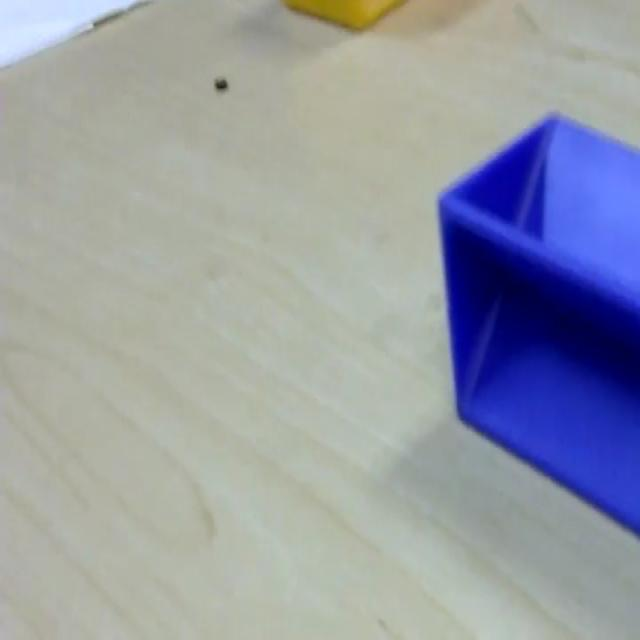blue_block: (435, 108, 639, 536)
yellow_block: (282, 0, 406, 31)
